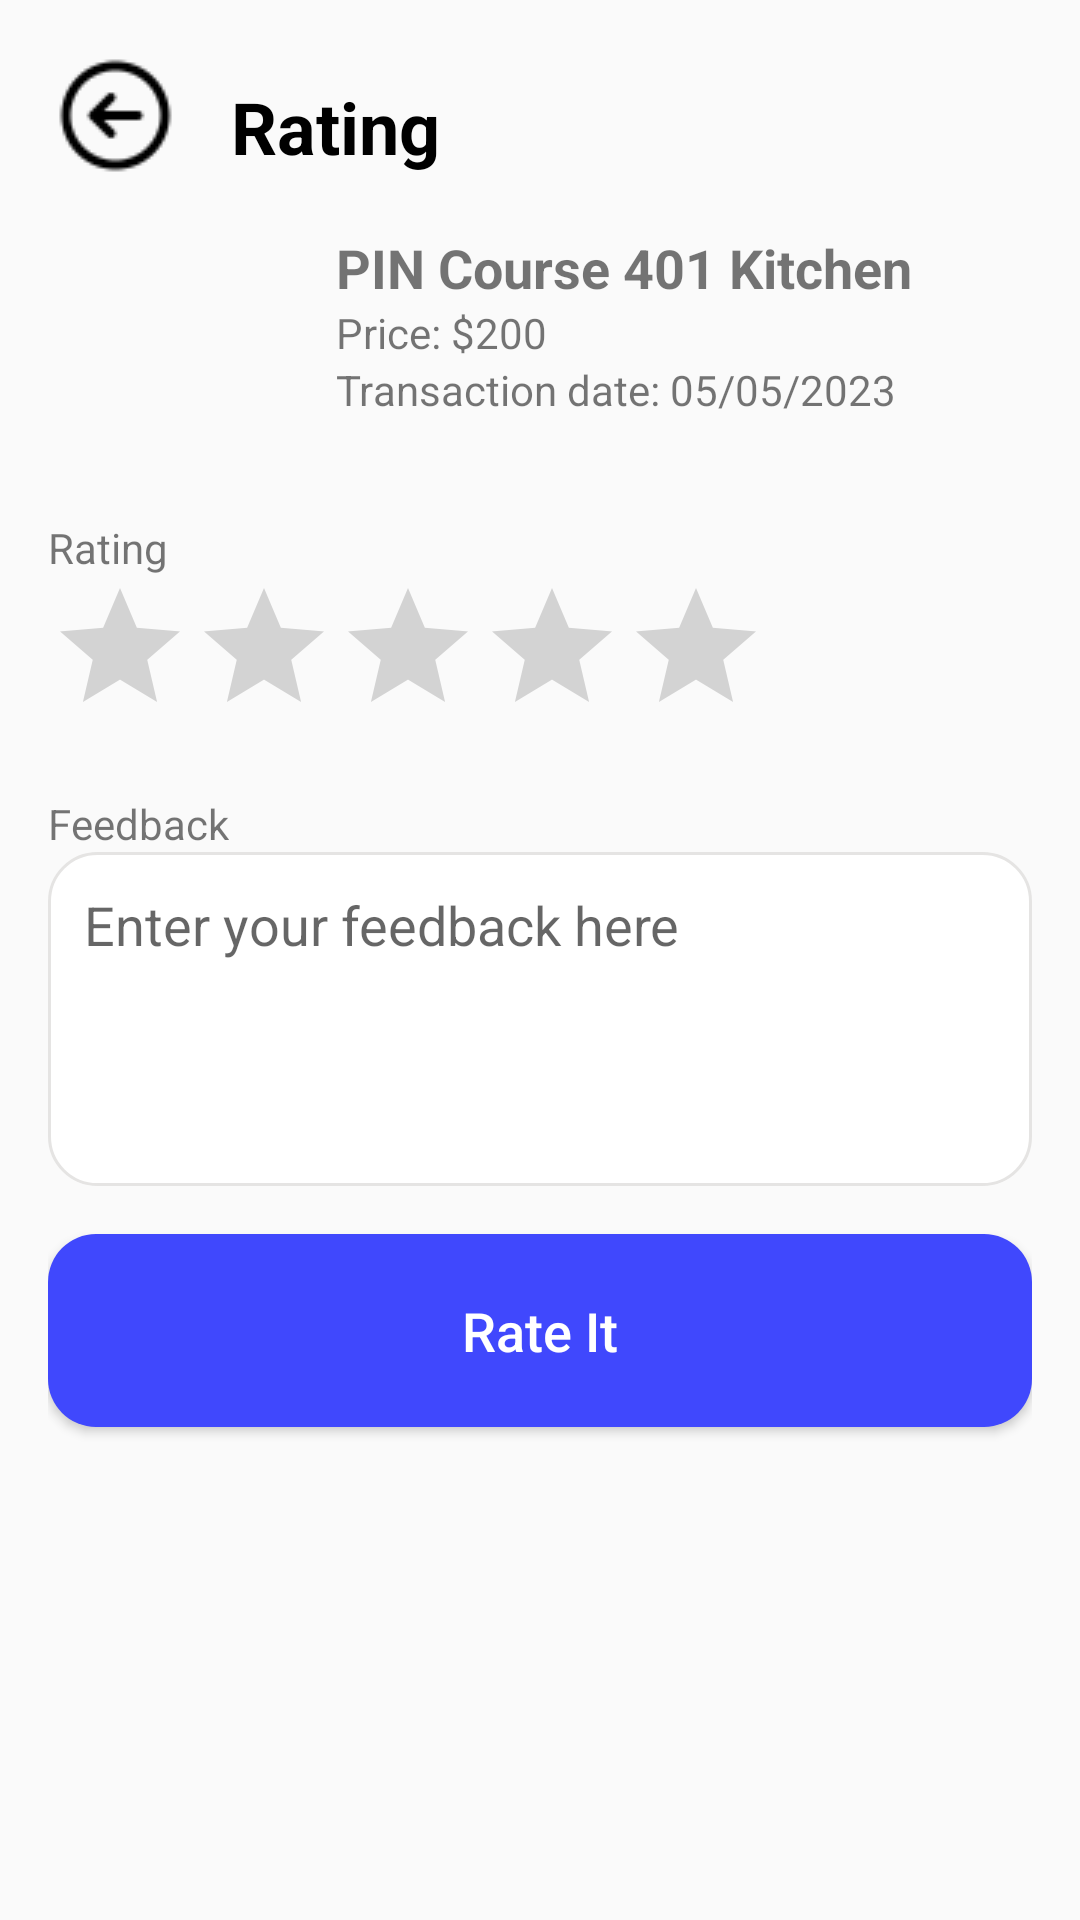

Screen size 1080 × 1920. Icon name, then its center in pixels as (x,y):
back arrow: (115,115)
